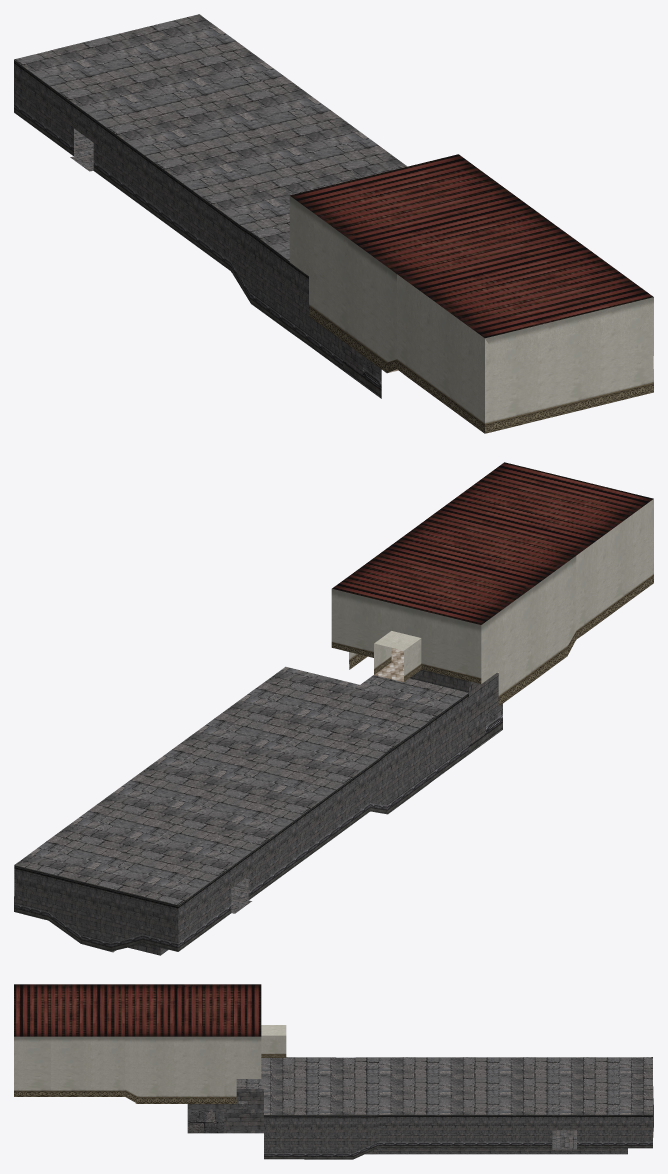
3 views of the same model, one above another, from view 1: azimuth 30°, elevation 25°; view 2: azimuth 150°, elevation 25°; view 3: azimuth 270°, elevation 25° (orthographic). The views are drawn at different scales.
Visible parts, largest first — view 1: Box44; view 2: Box44; view 3: Box44.
Boxes of the visible parts, box(x1,y1,x2,y2) form: Box44: box(14, 14, 653, 433); Box44: box(14, 462, 653, 955); Box44: box(14, 984, 653, 1159).
Bounding box in the file's own units: 666 × 510 × 2583.
